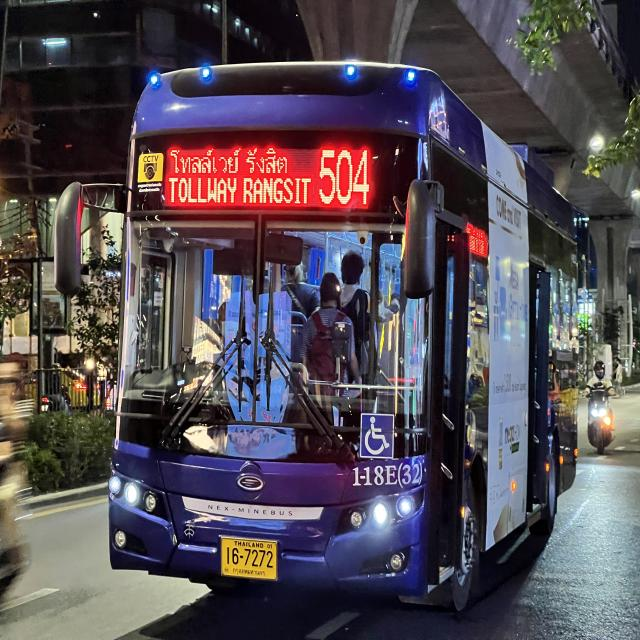Bus-Line-Number: (316, 144, 374, 207)
Destination-Sign-Normal: (162, 140, 312, 208)
TSB-Bus: (104, 48, 583, 621)
